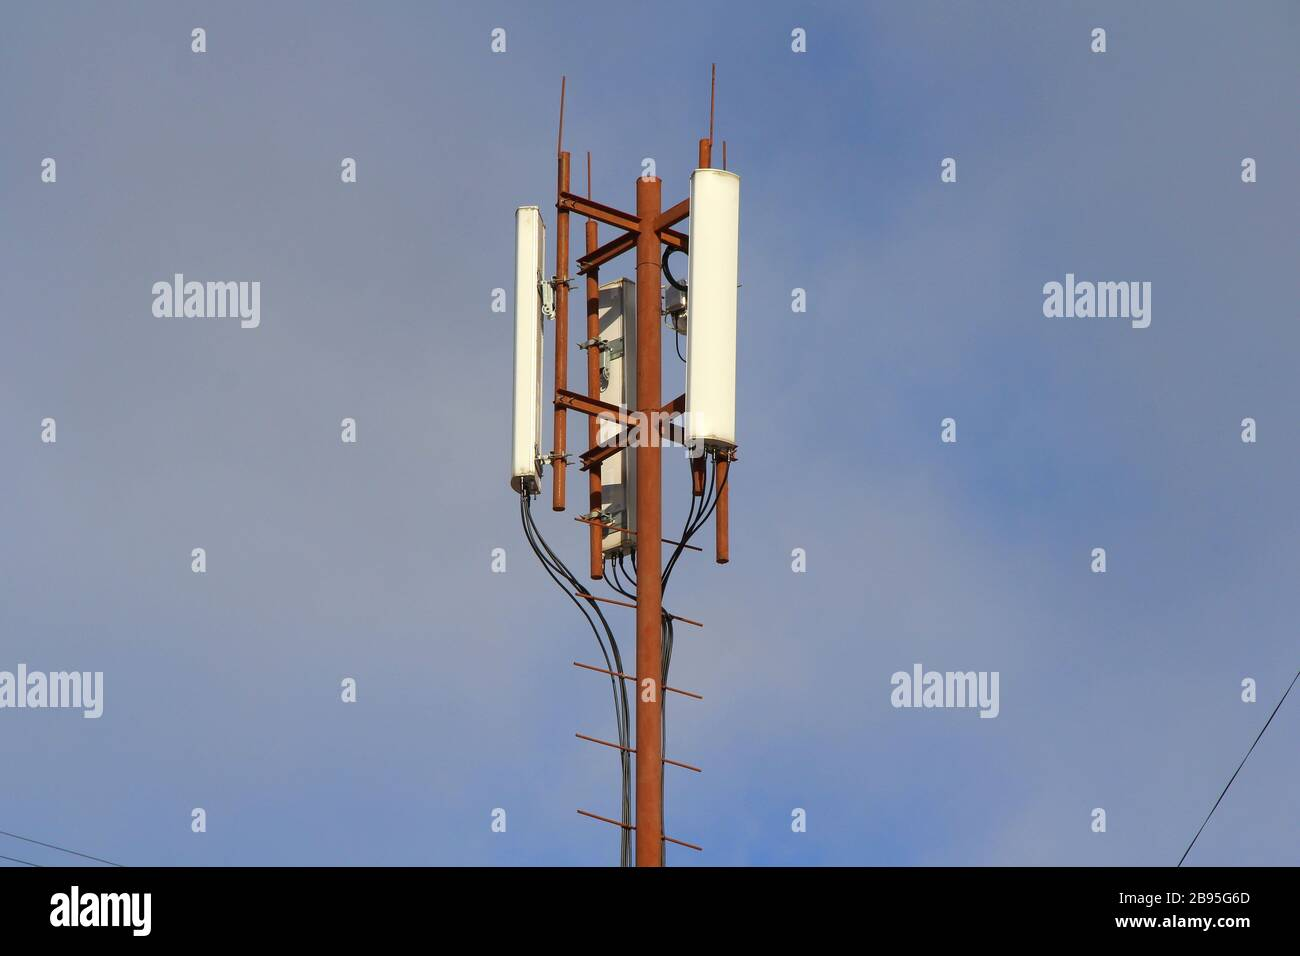sa: (667, 154, 776, 495), (484, 192, 575, 507)
